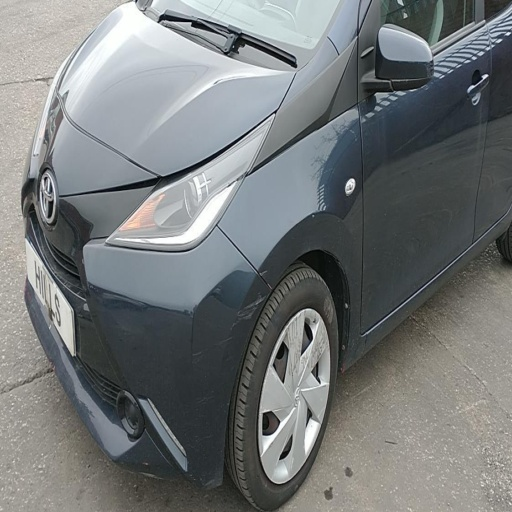scratch: (282, 310, 329, 391), (230, 296, 266, 331), (219, 337, 232, 343), (259, 270, 268, 277), (193, 351, 201, 356), (143, 461, 149, 467), (290, 456, 293, 468), (267, 283, 272, 290), (270, 441, 273, 447), (312, 215, 314, 217)
